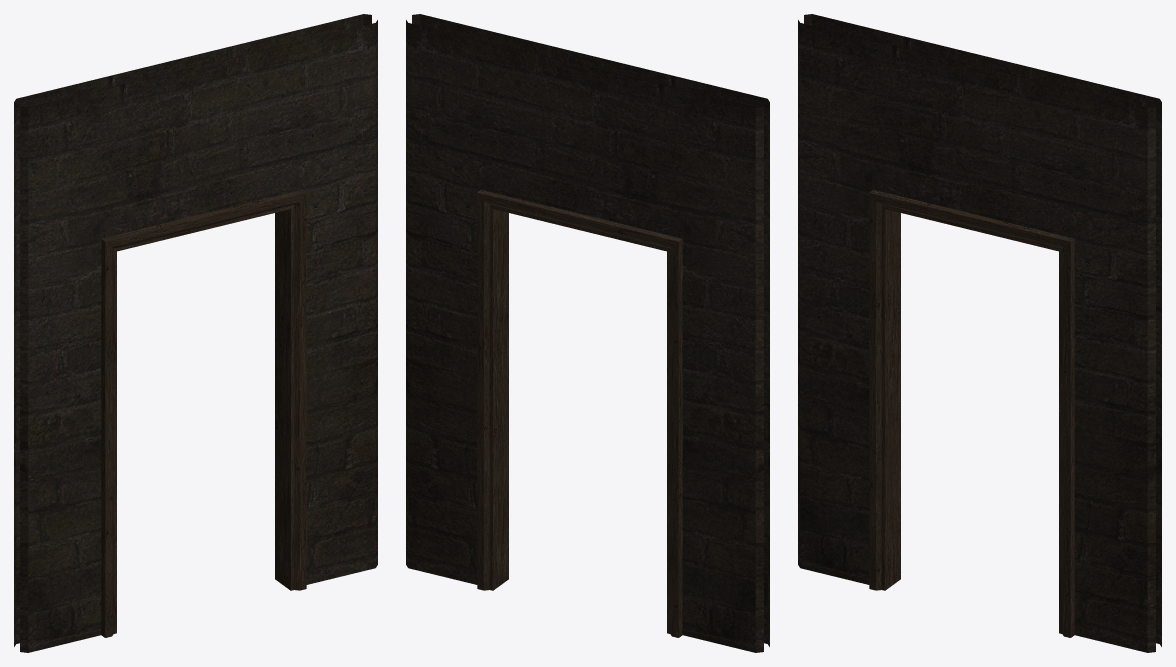
Rendered from doorway_3_half.glb.
3 views of the same model, side by side, from view 1: azimuth 30°, elevation 25°; view 2: azimuth 150°, elevation 25°; view 3: azimuth 330°, elevation 25° (orthographic).
Parts seen in each view (by area): view 1: doorway_3_half; view 2: doorway_3_half; view 3: doorway_3_half.
Part boxes in pixels (left/top/right/bottom): doorway_3_half: left=14, top=14, right=377, bottom=652; doorway_3_half: left=406, top=14, right=769, bottom=652; doorway_3_half: left=798, top=14, right=1161, bottom=652.
Bounding box in the file's own units: 2.06 × 3 × 0.2.
Materials: 2 (2 with a texture image).
